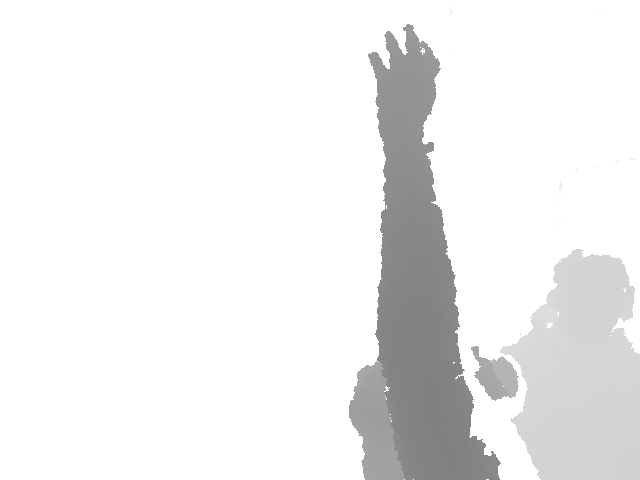hand: (367, 24, 440, 148)
head: (348, 362, 433, 480), (550, 250, 635, 340)
person: (347, 24, 518, 480), (498, 250, 640, 480)
